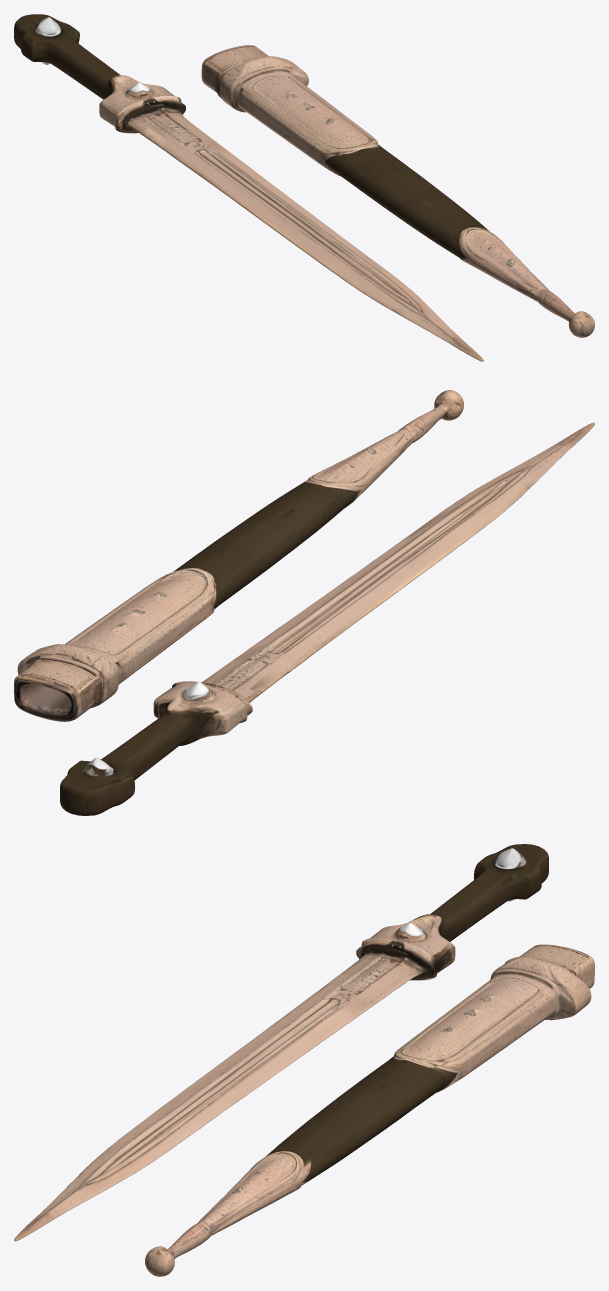
The model's file is 022-kinzhal-s-parnymi-nozhnami.glb.
The picture shows the model from 3 angles, top to bottom: view 1: azimuth 30°, elevation 25°; view 2: azimuth 150°, elevation 25°; view 3: azimuth 330°, elevation 25°; orthographic projection. The views are drawn at different scales.
Parts seen in each view (by area): view 1: node_0; view 2: node_0; view 3: node_0.
Boxes of the visible parts, x1=… form: node_0: x1=14, y1=14, x2=594, y2=361; node_0: x1=14, y1=390, x2=594, y2=815; node_0: x1=14, y1=844, x2=594, y2=1276.
Bounding box in the file's own units: 0.2874 × 0.0738 × 1.18.
1 material, 1 textured.
